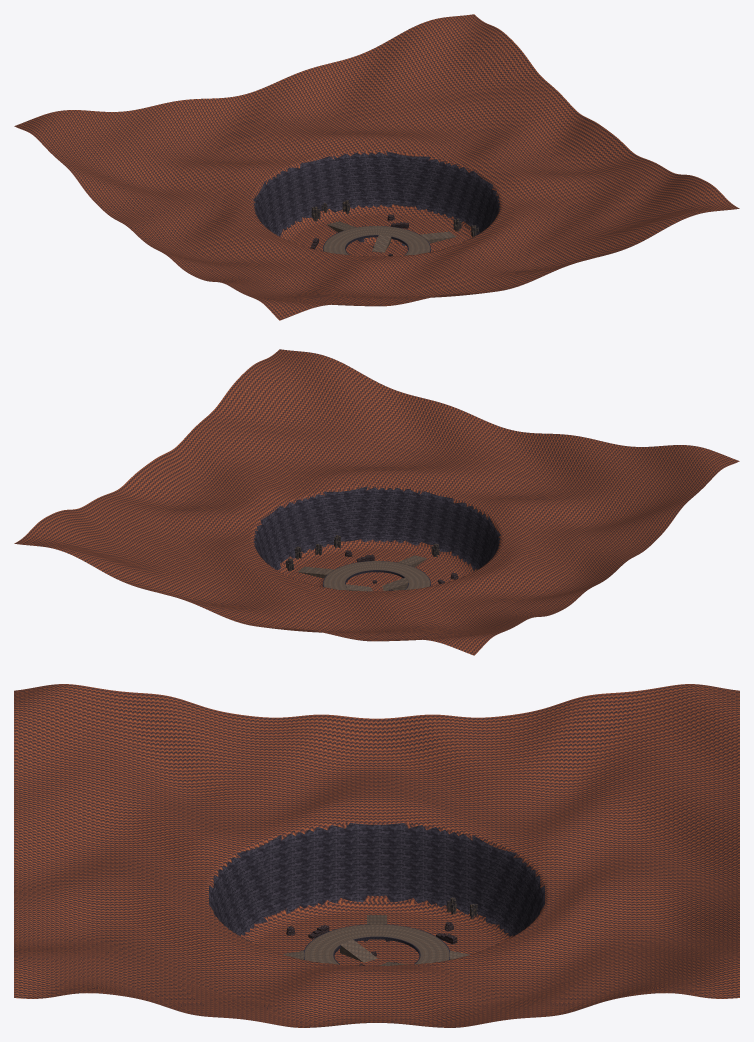
3 renders of one model, top to bottom at view 1: azimuth 30°, elevation 25°; view 2: azimuth 150°, elevation 25°; view 3: azimuth 270°, elevation 25°, orthographic. The views are drawn at different scales.
Visible parts, largest first — view 1: Crater Bowl, Road 01 floor, Road 02 floor; view 2: Crater Bowl, Road 04 floor, Road 03 floor; view 3: Crater Bowl, Road 02 floor, Road 03 floor.
Boxes of the visible parts, <box> form: Crater Bowl: <box>14,14,739,320</box>; Road 01 floor: <box>350,226,422,243</box>; Road 02 floor: <box>323,229,361,254</box>; Crater Bowl: <box>14,349,739,655</box>; Road 04 floor: <box>331,561,403,578</box>; Road 03 floor: <box>392,564,430,589</box>; Crater Bowl: <box>14,684,739,1027</box>; Road 02 floor: <box>375,924,449,955</box>; Road 03 floor: <box>304,924,378,955</box>.
Size of the model in its own units: 400 by 78.97 by 400.
5 materials, 5 textured.
